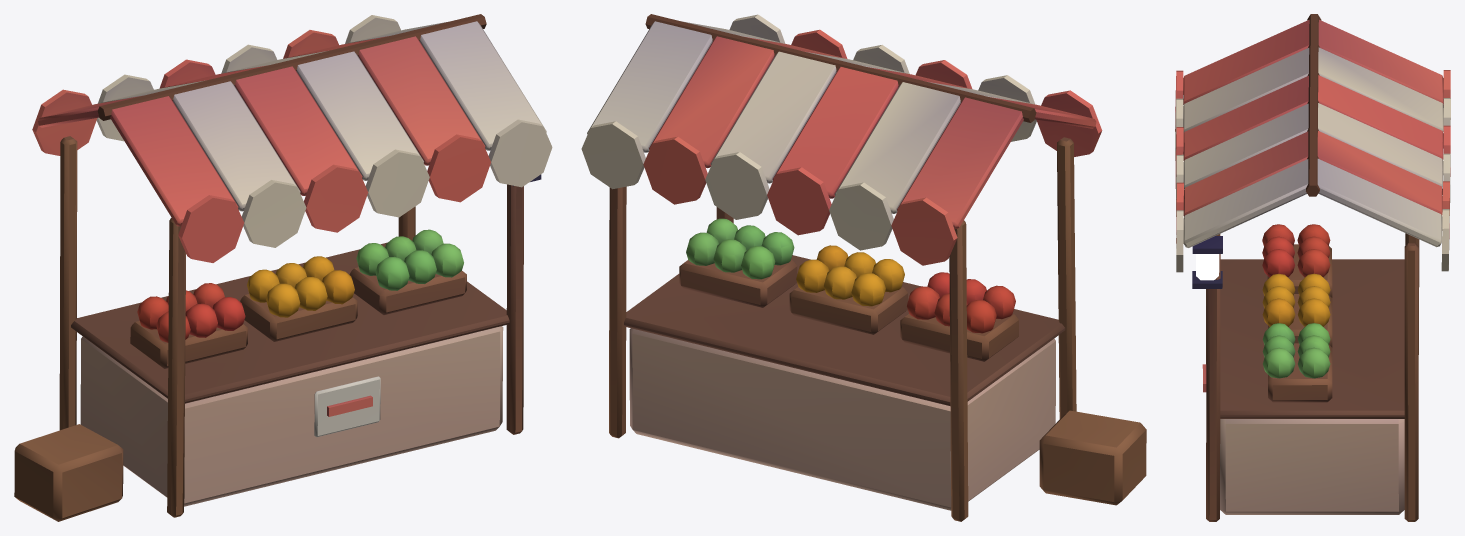
File: common_town_market_stall_a.glb
3 views of the same model, side by side, from view 1: azimuth 30°, elevation 25°; view 2: azimuth 150°, elevation 25°; view 3: azimuth 270°, elevation 25° (orthographic). The views are drawn at different scales.
Visible parts, largest first — view 1: common_town_market_stall_a; view 2: common_town_market_stall_a; view 3: common_town_market_stall_a.
Part boxes in pixels (x1,y1,x2,y2): common_town_market_stall_a: [14, 14, 552, 521]; common_town_market_stall_a: [581, 14, 1146, 521]; common_town_market_stall_a: [1175, 14, 1450, 521].
Bounding box in the file's own units: 4.28 × 3.25 × 2.36.
